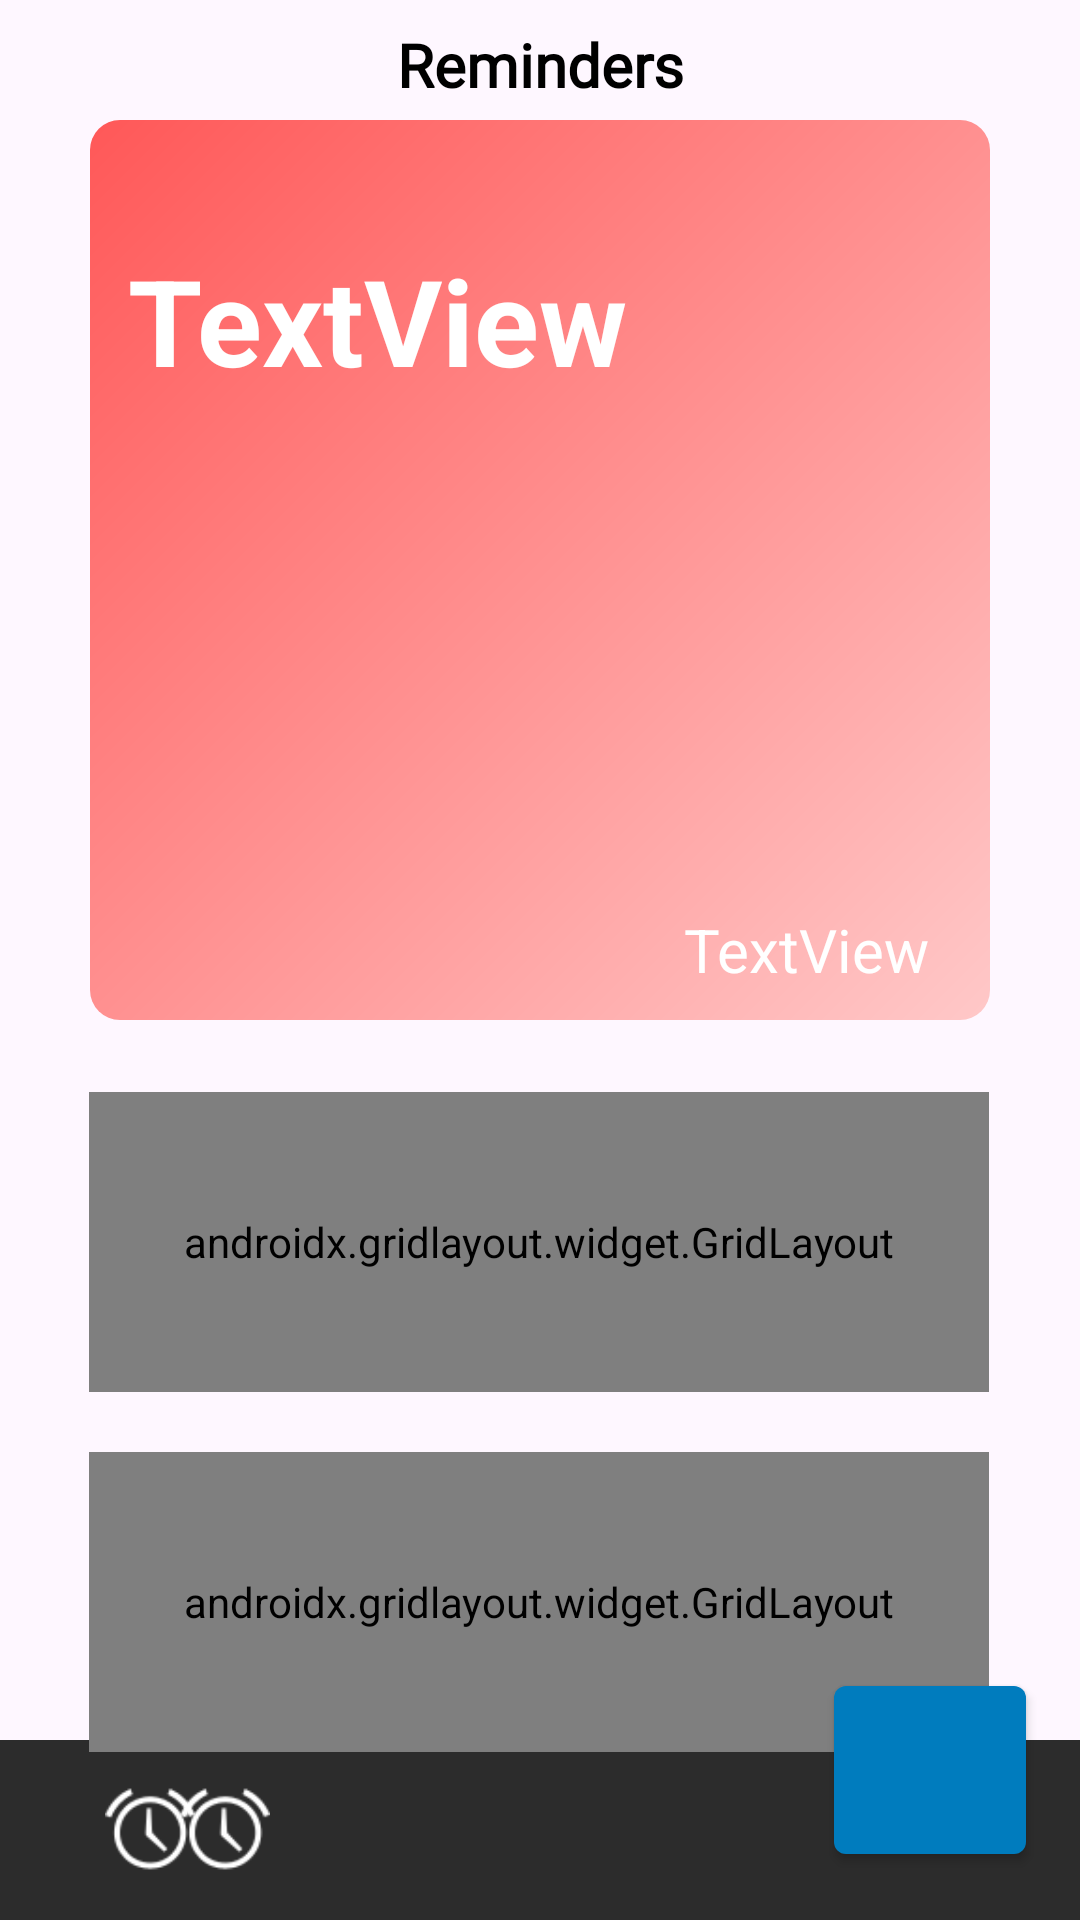

Icon click points for this 1080×1920 phone screenshot, format (x,y):
lock idle alarm: (150,1829), (225,1829)
